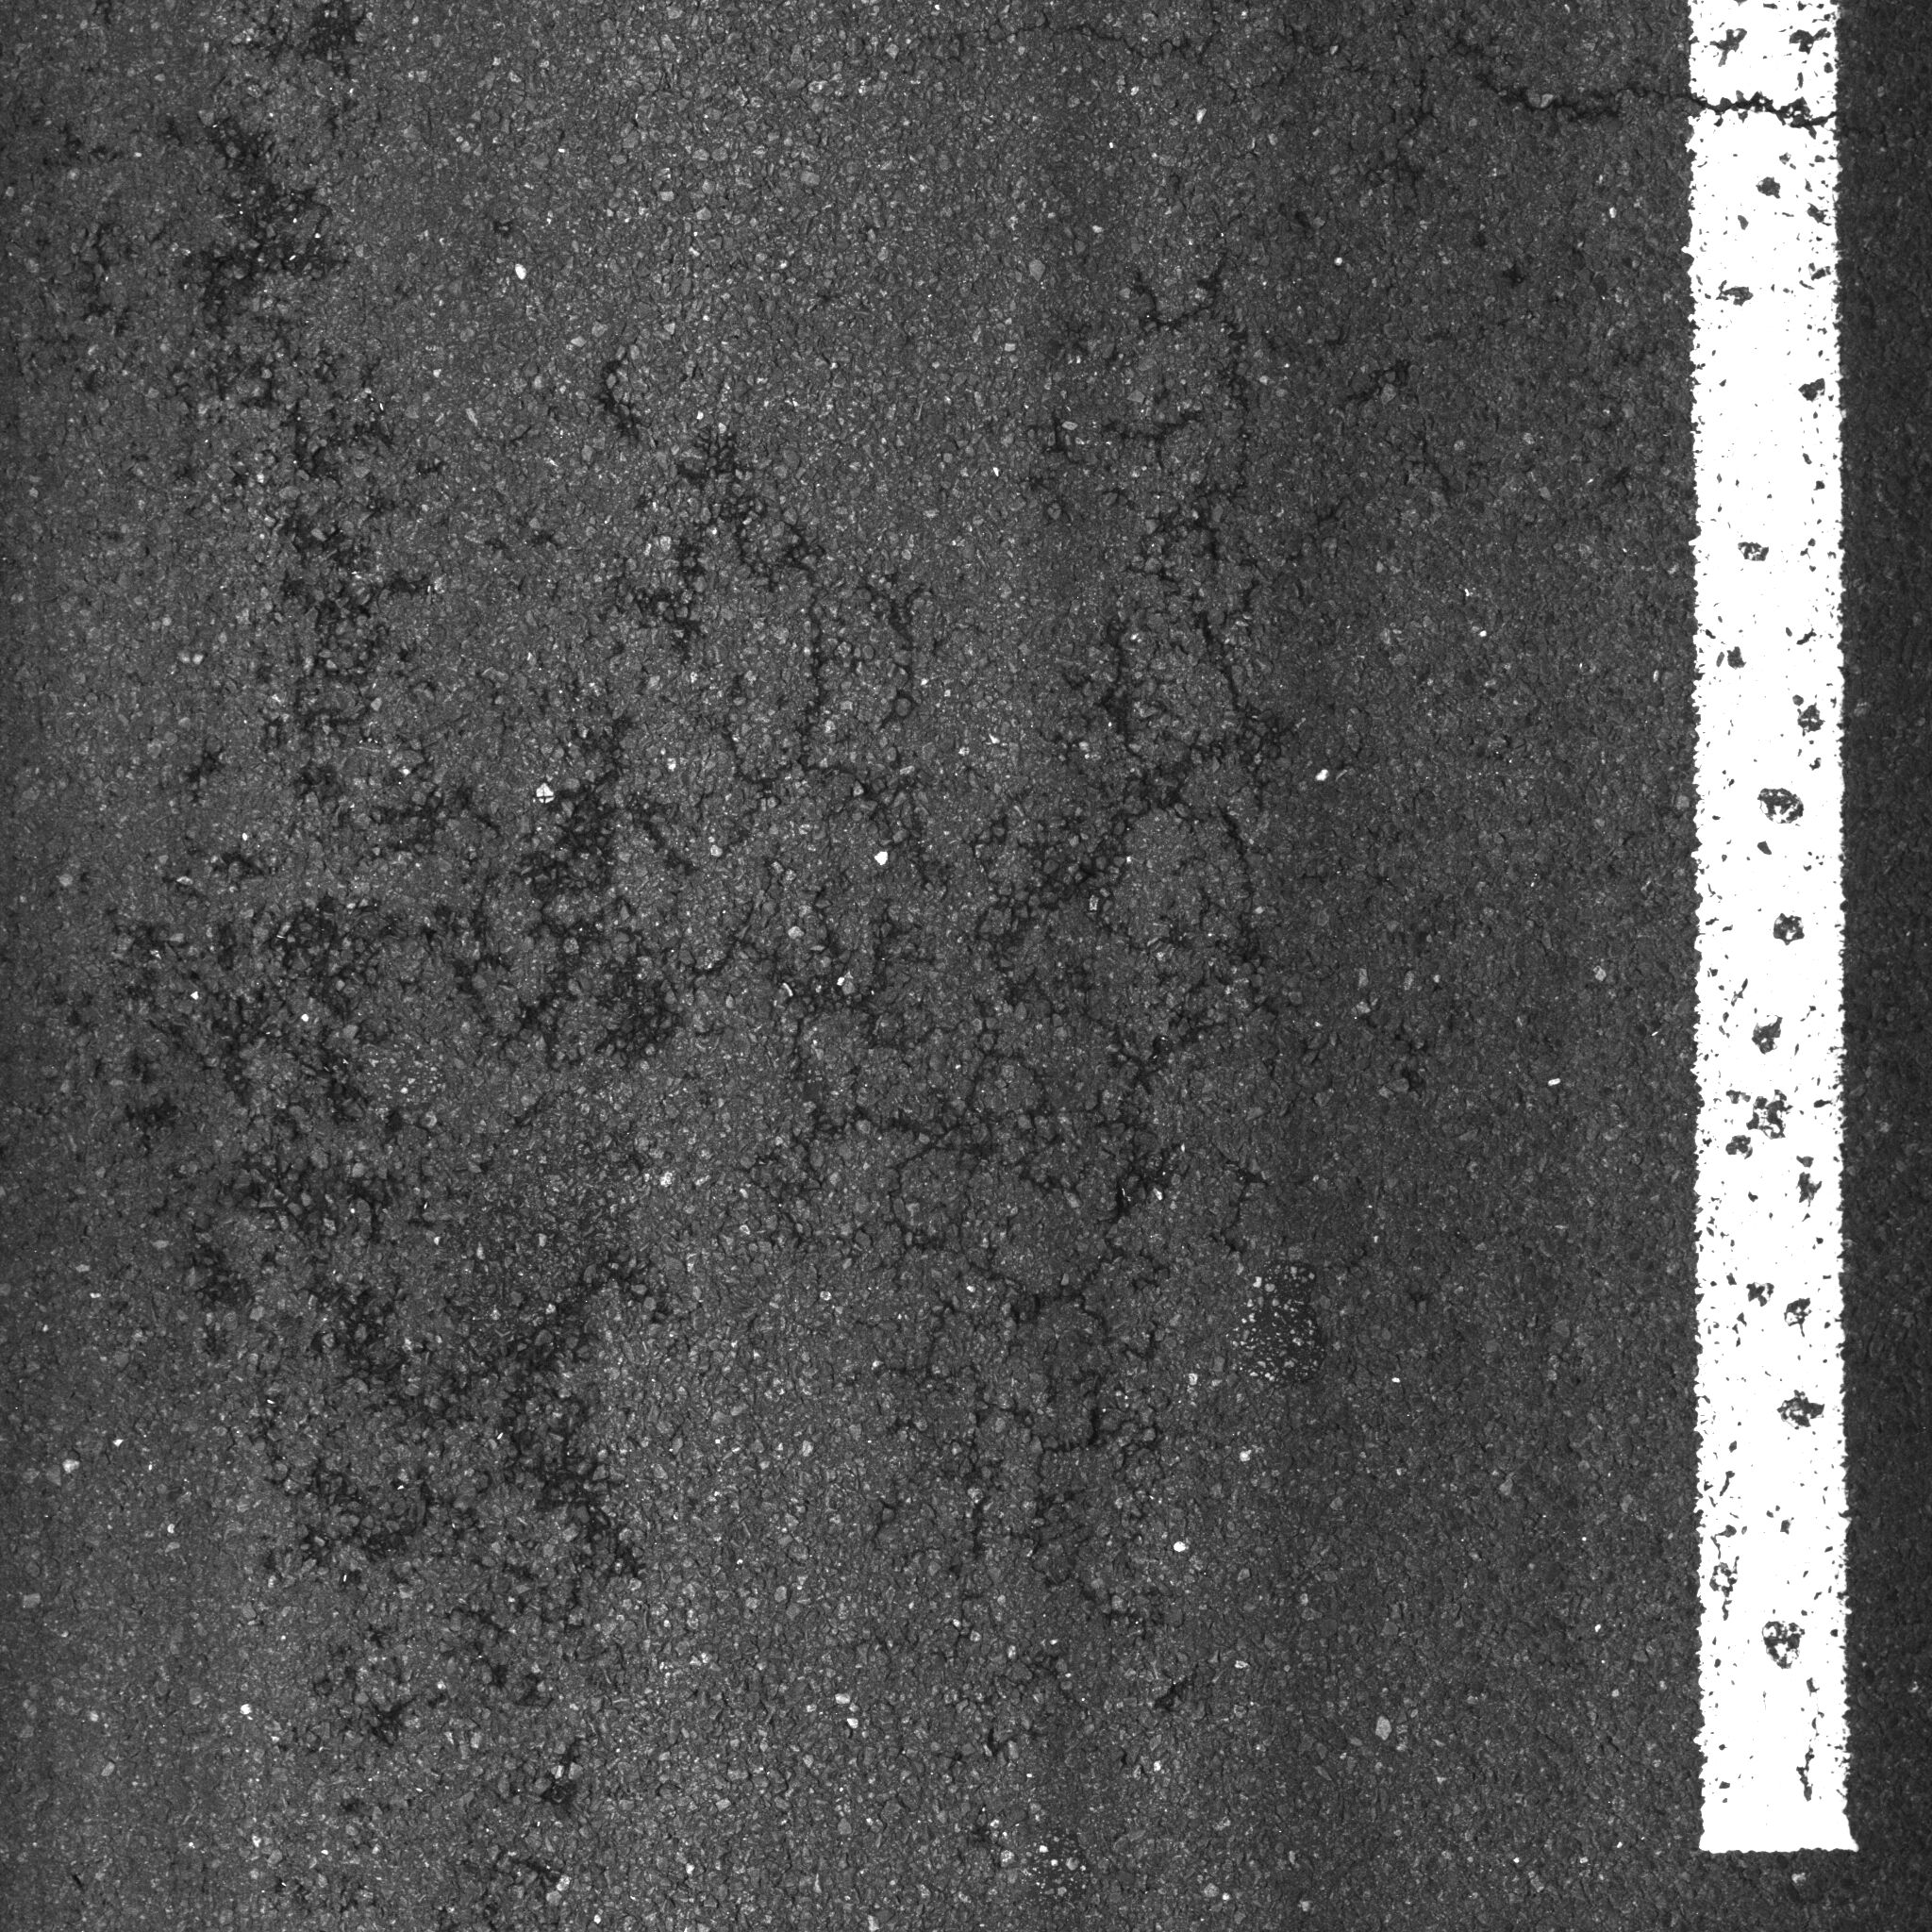alligator: (292, 285, 1366, 1645)
